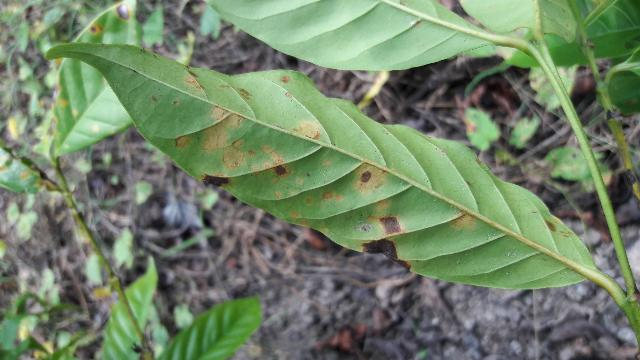rust_level_2: (44, 45, 600, 288)
